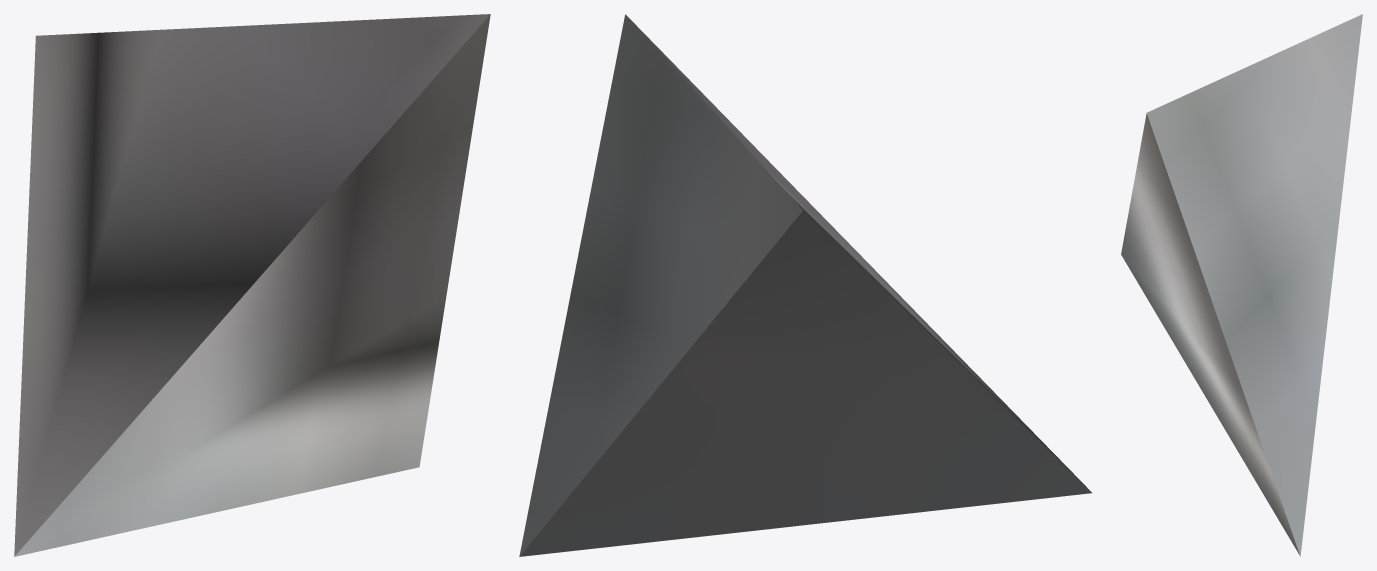
Rendered from Asteroid_Medium_001_02_005_03_003.fbx.
3 renders of one model, left to right at view 1: azimuth 30°, elevation 25°; view 2: azimuth 150°, elevation 25°; view 3: azimuth 270°, elevation 25°, orthographic. The views are drawn at different scales.
Parts seen in each view (by area): view 1: Asteroid_Medium_001_02_005_03_003; view 2: Asteroid_Medium_001_02_005_03_003; view 3: Asteroid_Medium_001_02_005_03_003.
Part boxes in pixels (left/top/right/bottom): Asteroid_Medium_001_02_005_03_003: left=14, top=14, right=490, bottom=556; Asteroid_Medium_001_02_005_03_003: left=519, top=14, right=1091, bottom=556; Asteroid_Medium_001_02_005_03_003: left=1121, top=14, right=1362, bottom=556.
Bounding box in the file's own units: 0.2383 × 0.2334 × 0.1176.
